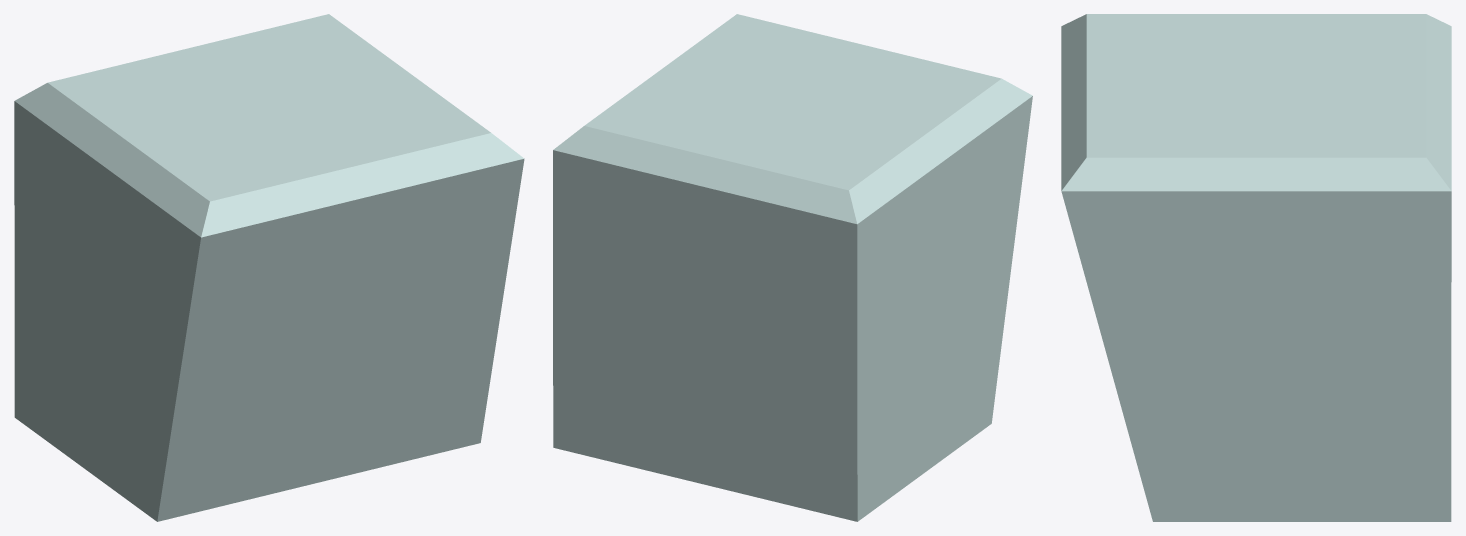
The model's file is Side_Icetile_01.fbx.
3 views of the same model, side by side, from view 1: azimuth 30°, elevation 25°; view 2: azimuth 150°, elevation 25°; view 3: azimuth 270°, elevation 25° (orthographic). The views are drawn at different scales.
Visible parts, largest first — view 1: pCube1; view 2: pCube1; view 3: pCube1.
Part boxes in pixels (x1,y1,x2,y2): pCube1: (14,14,524,521); pCube1: (553,14,1032,521); pCube1: (1061,14,1451,521).
Bounding box in the file's own units: 3 × 3 × 3.
